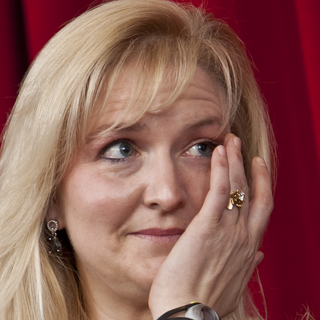eye: (95, 136, 143, 165), (178, 134, 222, 161)
